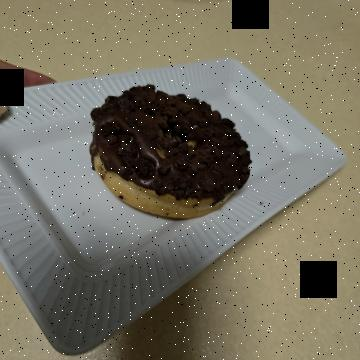doughnut: (75, 105, 243, 294)
